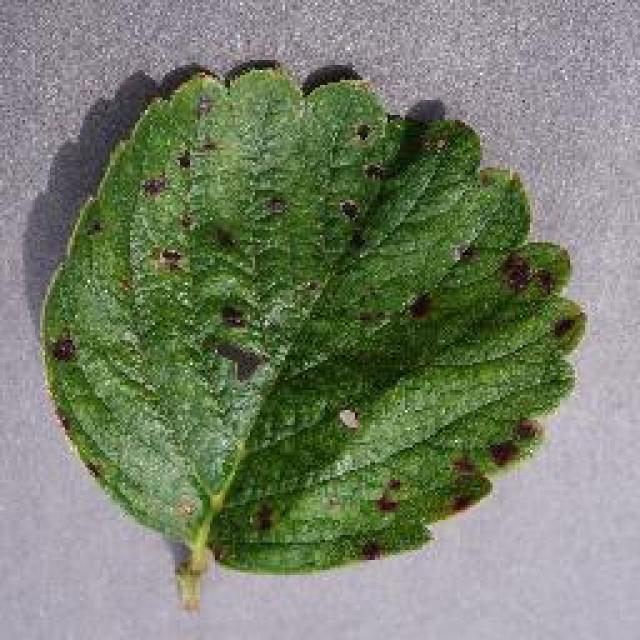Strawberry leaf scorch: (101, 90, 542, 553)
